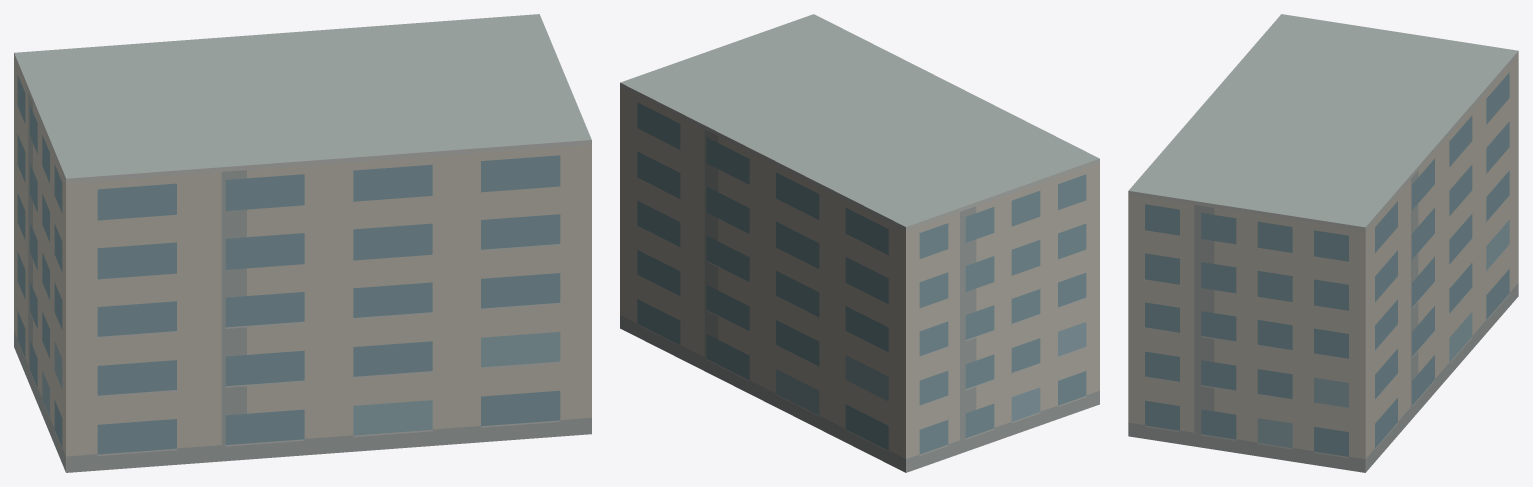
The model's file is residential-8d290d45-deea-4f59-9617-9194283b8d0e.glb.
The picture shows the model from 3 angles, left to right: view 1: azimuth 30°, elevation 25°; view 2: azimuth 150°, elevation 25°; view 3: azimuth 270°, elevation 25°; orthographic projection. The views are drawn at different scales.
Visible parts, largest first — view 1: residential-8d290d45-deea-4f59-9617-9194283b8d0e.tmp; view 2: residential-8d290d45-deea-4f59-9617-9194283b8d0e.tmp; view 3: residential-8d290d45-deea-4f59-9617-9194283b8d0e.tmp.
Boxes of the visible parts, box(x1,y1,x2,y2) form: residential-8d290d45-deea-4f59-9617-9194283b8d0e.tmp: box(14, 14, 591, 472); residential-8d290d45-deea-4f59-9617-9194283b8d0e.tmp: box(620, 14, 1099, 472); residential-8d290d45-deea-4f59-9617-9194283b8d0e.tmp: box(1128, 14, 1518, 472).
Size of the model in its own units: 28.43 by 15.25 by 21.97.
